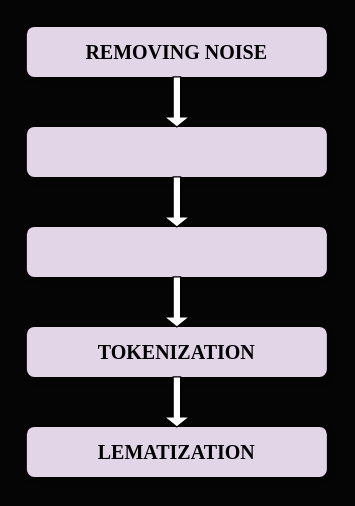
This 355x506 diagram has some shape labels left out. Here are the shapes that lost their labels. From the top down, the centre of each, then its label:
At point 177,153: "CASE CONVERSION".
At point 177,253: "REMOVING STOP WORDS".
